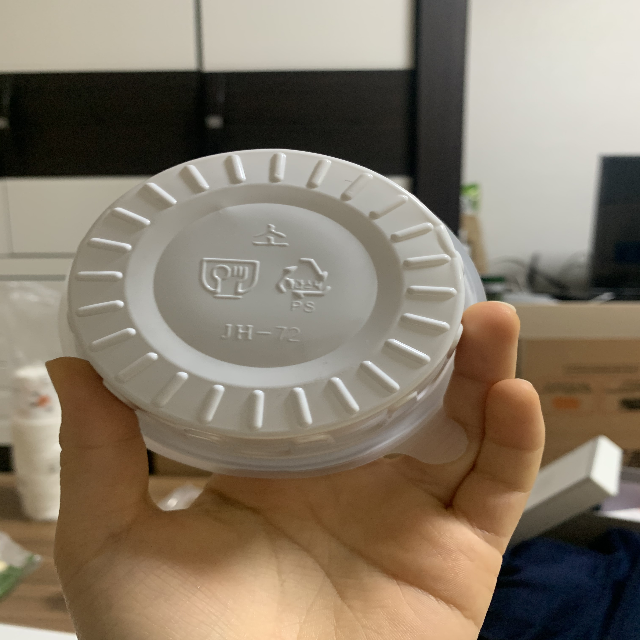ps: (273, 254, 334, 316)
